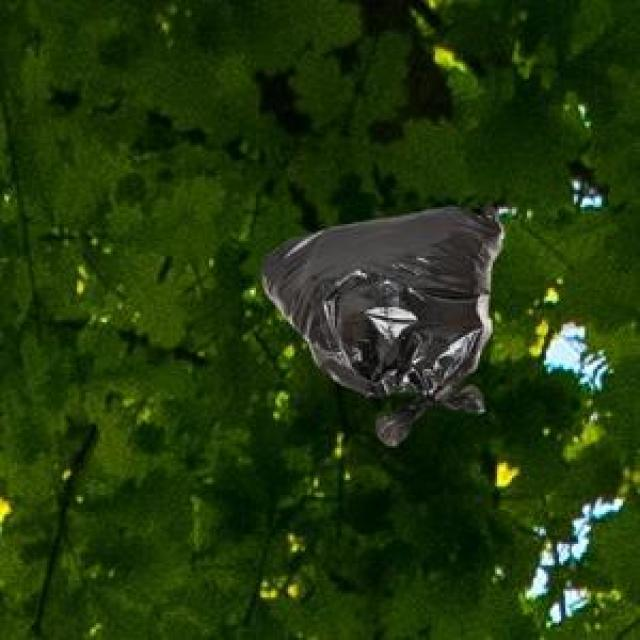waste: (265, 206, 504, 446)
